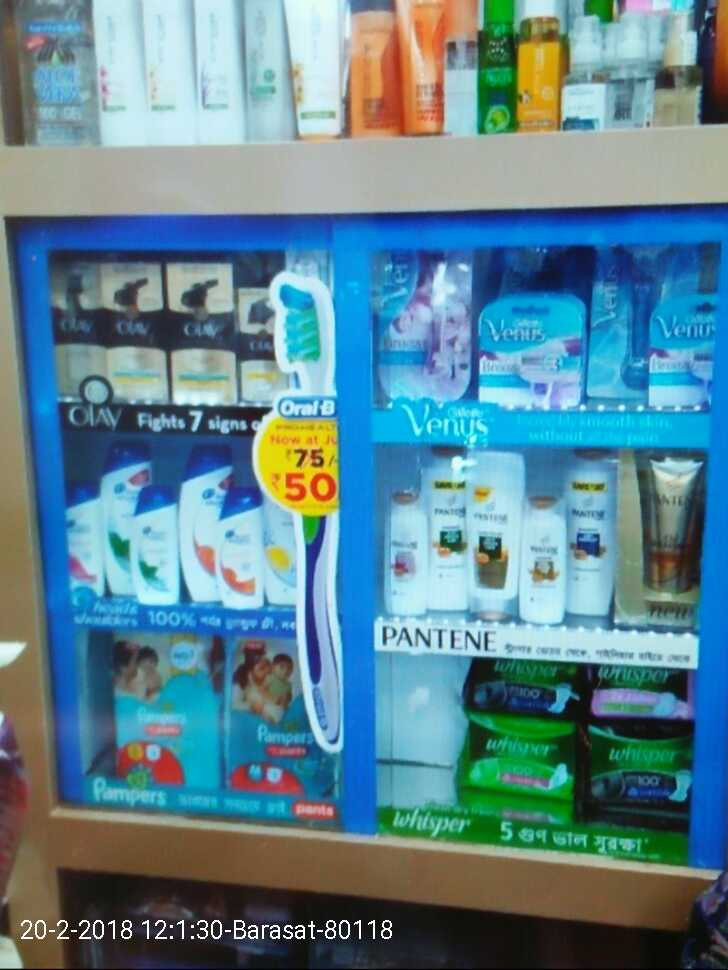venus: (378, 245, 474, 402), (481, 294, 582, 402), (643, 294, 725, 412), (599, 241, 643, 412)
